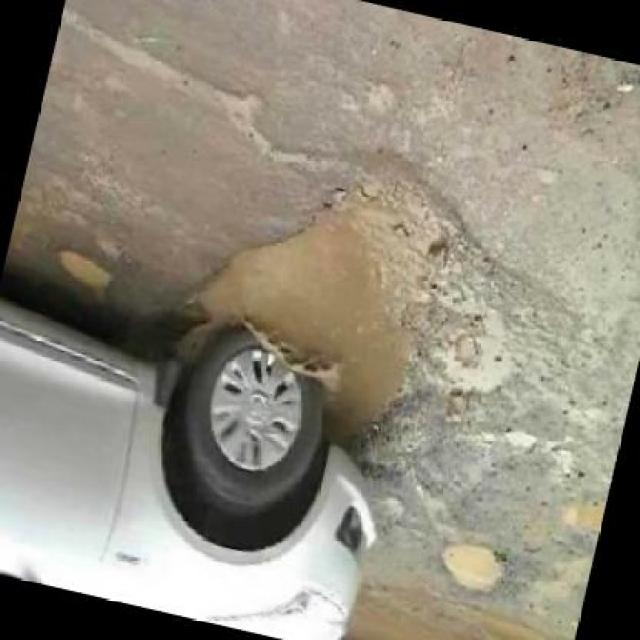pothole1: (146, 120, 528, 511), (432, 540, 513, 606), (47, 244, 121, 299), (550, 485, 607, 552)
